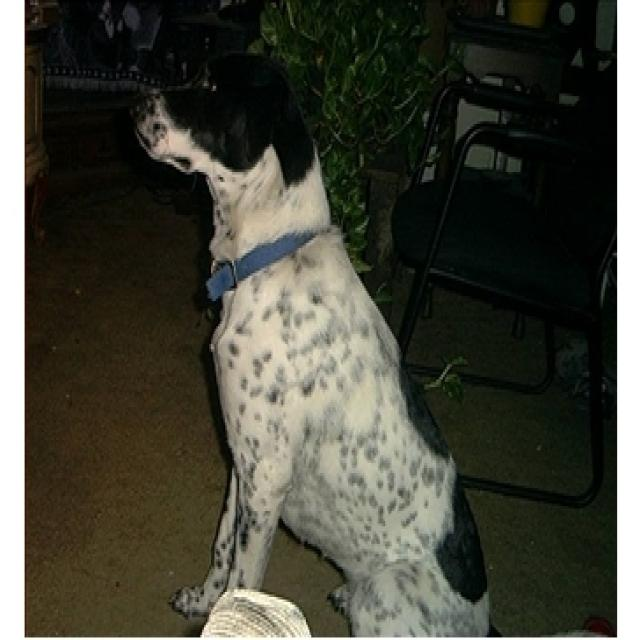chair: (402, 53, 640, 458)
dog: (144, 60, 504, 640)
